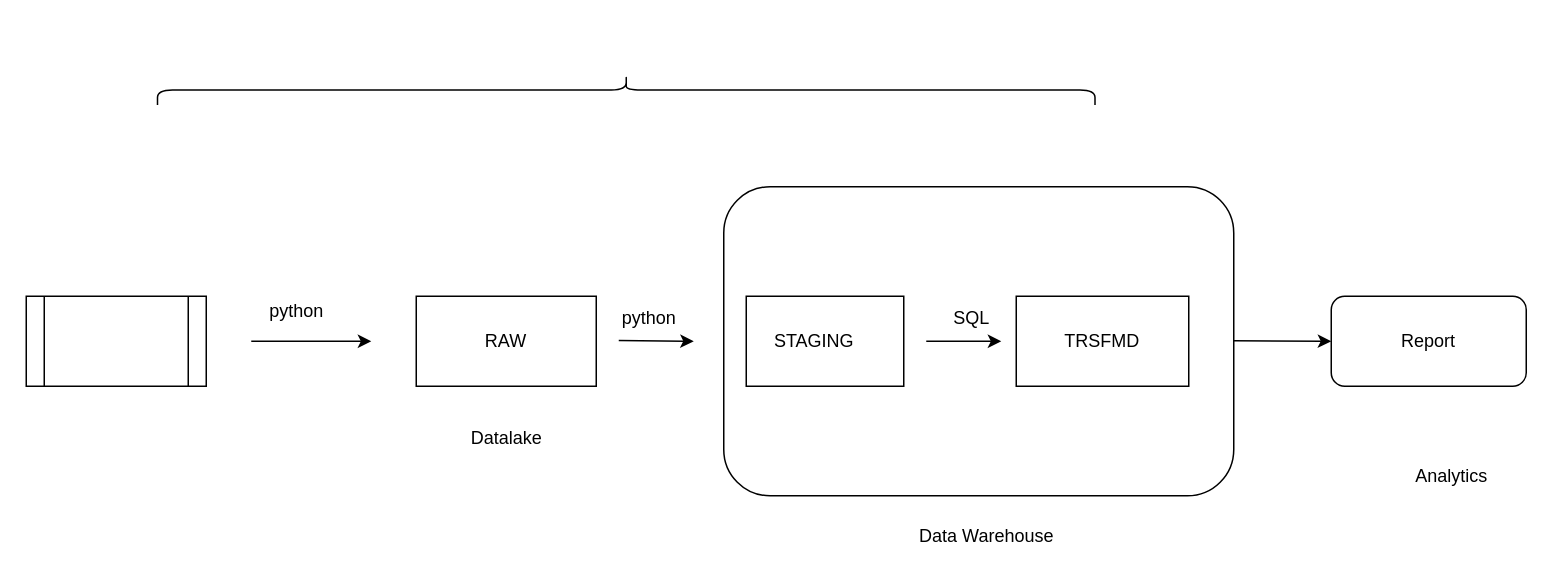
The diagram is 1553 pixels wide and 584 high, and some of its shapes have lost their labels. Each missing label, with the centre of its shape:
"Orchestrator" belongs at point 625,89.
"website airline data" belongs at point 115,340.
